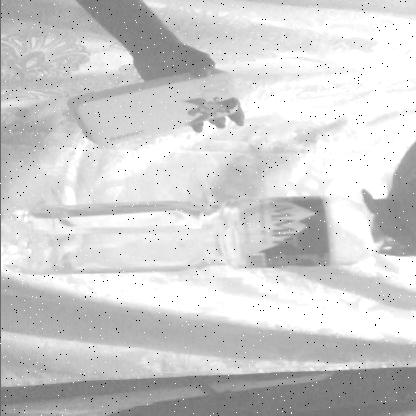Plastic Bottle: (20, 173, 402, 290)
